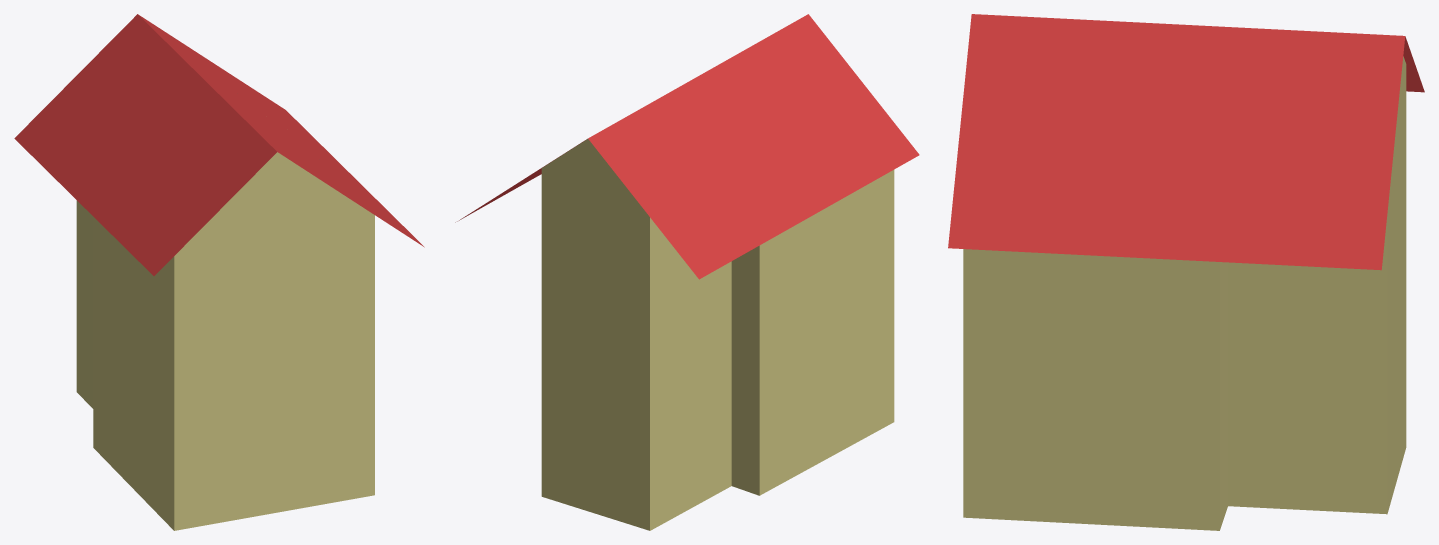
The picture shows the model from 3 angles, left to right: view 1: azimuth 30°, elevation 25°; view 2: azimuth 150°, elevation 25°; view 3: azimuth 270°, elevation 25°; orthographic projection. The views are drawn at different scales.
Size of the model in its own units: 11.24 by 12.99 by 13.44.
